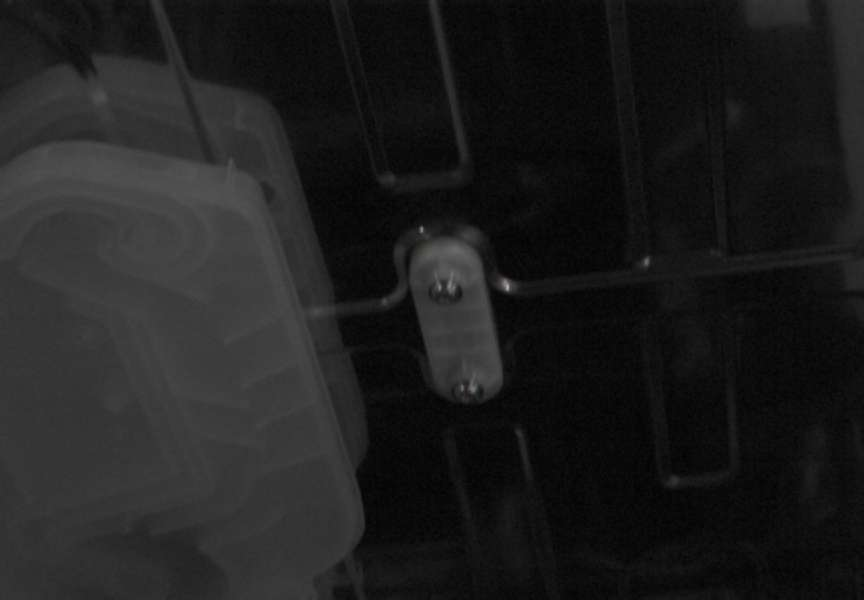screw: (429, 275, 463, 305), (451, 378, 484, 405)
